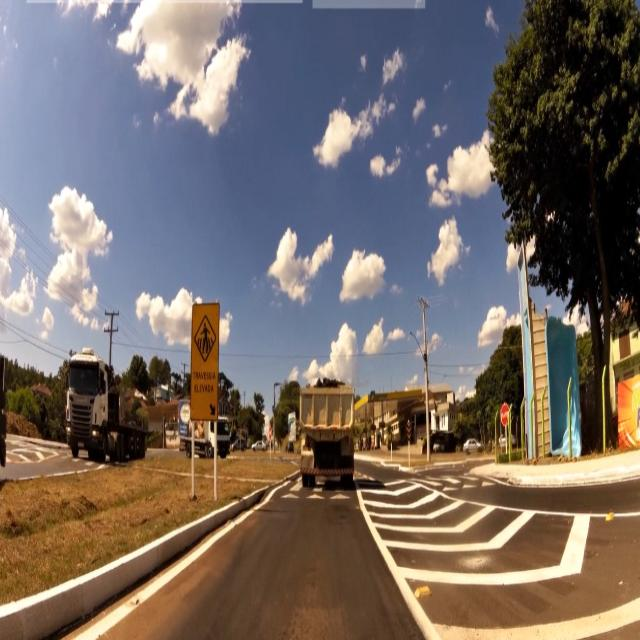A-32b: (195, 316, 216, 362)
